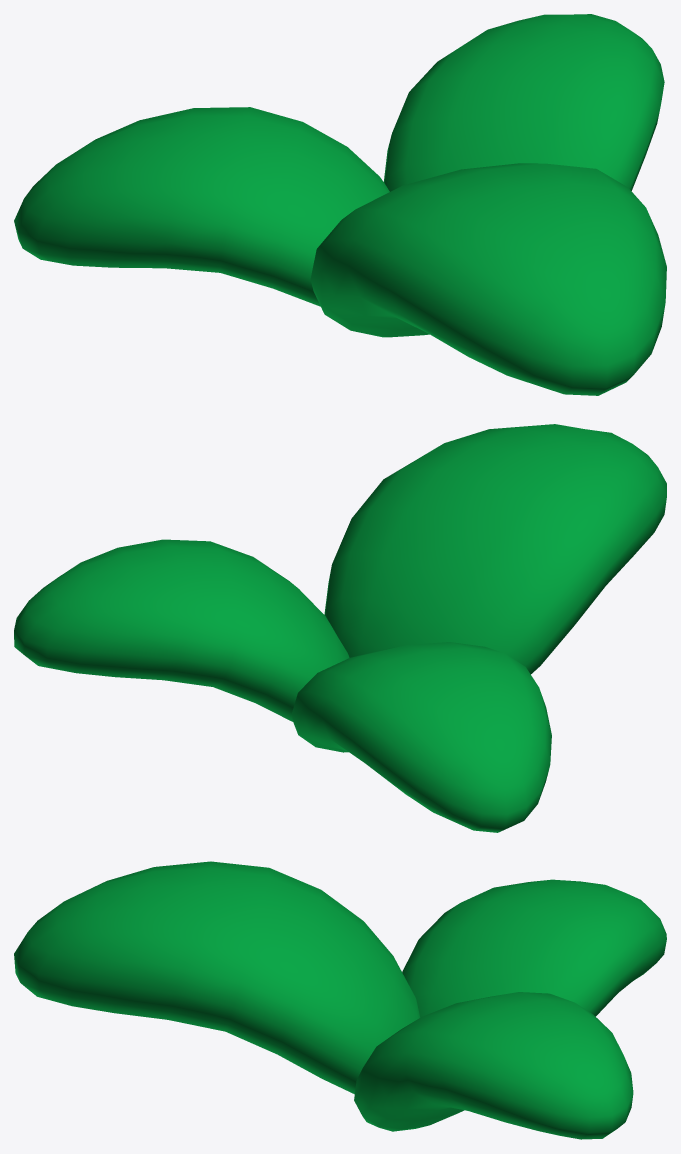
Rendered from Town_11_Grass_3.glb.
3 views of the same model, one above another, from view 1: azimuth 30°, elevation 25°; view 2: azimuth 150°, elevation 25°; view 3: azimuth 270°, elevation 25° (orthographic). The views are drawn at different scales.
Visible parts, largest first — view 1: Town_11_Grass_3; view 2: Town_11_Grass_3; view 3: Town_11_Grass_3.
Part boxes in pixels (<box>): Town_11_Grass_3: <box>14,14,666,395</box>; Town_11_Grass_3: <box>14,424,666,832</box>; Town_11_Grass_3: <box>14,861,666,1139</box>.
Bounding box in the file's own units: 0.5362 × 0.2066 × 0.5993.
Materials: 1 (1 with a texture image).
